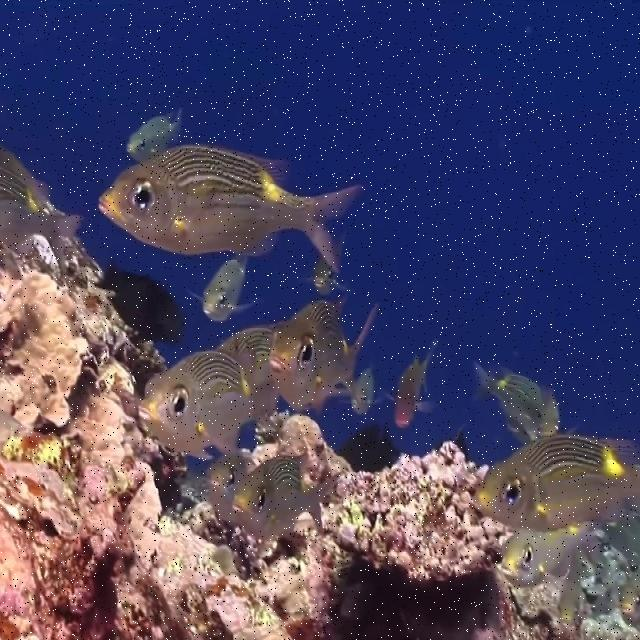fish: (98, 146, 365, 273), (474, 435, 639, 534), (137, 351, 259, 459), (268, 298, 380, 415), (233, 449, 343, 541), (473, 355, 558, 445), (501, 520, 609, 589), (383, 342, 437, 426), (191, 257, 257, 321), (127, 108, 182, 162), (207, 453, 247, 524), (344, 365, 383, 414), (308, 255, 343, 294)
reefs: (1, 260, 292, 639), (318, 444, 520, 580)
